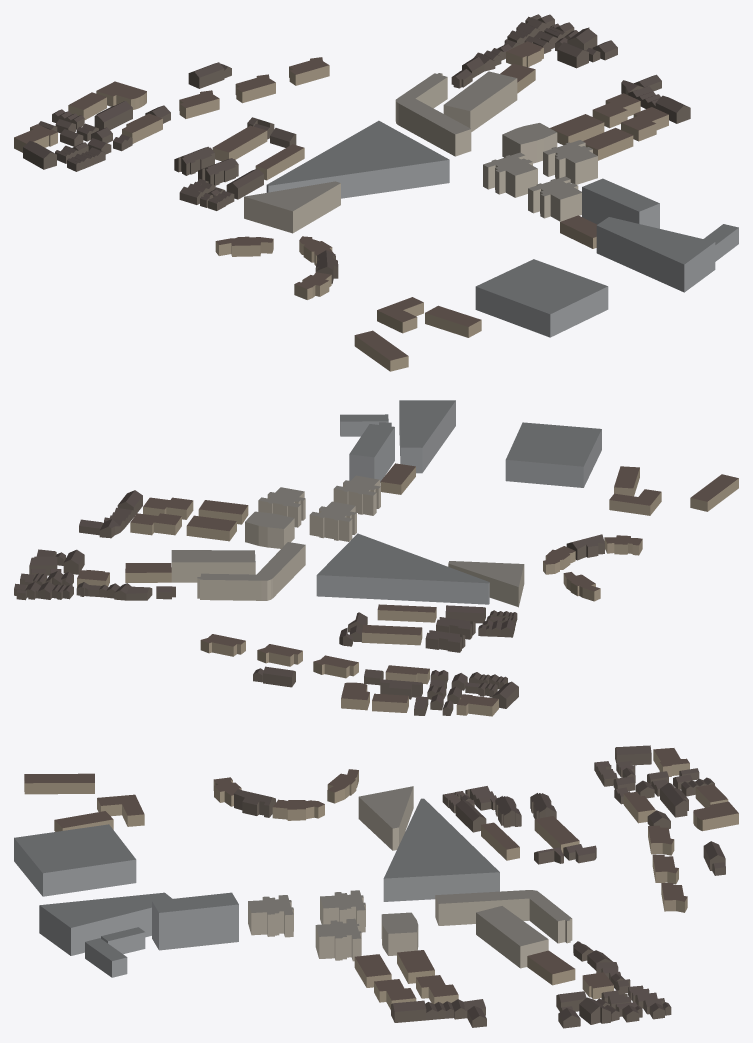
File: tile_1_3.glb
The picture shows the model from 3 angles, top to bottom: view 1: azimuth 30°, elevation 25°; view 2: azimuth 150°, elevation 25°; view 3: azimuth 270°, elevation 25°; orthographic projection. The views are drawn at different scales.
Visible parts, largest first — view 1: HP-w293023998, HP-w293024000, HP-w1234546195, HP-w783664773, HP-w293023999, HP-w783664771, HP-w1234546196, HP-w293412303, HP-w293412301, HP-w293412302, HP-w293412331, HP-w293513360 (+28 smaller); view 2: HP-w293023998, HP-w293024000, HP-w783664773, HP-w1234546195, HP-w783664771, HP-w1234546196, HP-w293023999, HP-w293412302, HP-w293412331, HP-w293412303, HP-w293412301, HP-w783664802 (+27 smaller); view 3: HP-w293023998, HP-w293024000, HP-w1234546195, HP-w1234546196, HP-w783664773, HP-w783664771, HP-w293023999, HP-w293412303, HP-w293412301, HP-w293513360, HP-w293412331, HP-w293412302 (+30 smaller).
Boxes of the visible parts, box(x1,y1,x2,y2) form: HP-w293023998: box(266, 120, 449, 198); HP-w293024000: box(475, 259, 608, 337); HP-w1234546195: box(596, 217, 715, 292); HP-w783664773: box(395, 73, 471, 156); HP-w293023999: box(244, 181, 340, 233); HP-w783664771: box(443, 71, 517, 131); HP-w1234546196: box(582, 178, 659, 228); HP-w293412303: box(528, 176, 581, 221); HP-w293412301: box(543, 140, 597, 184); HP-w293412302: box(483, 152, 537, 197); HP-w293412331: box(502, 123, 557, 163); HP-w293513360: box(354, 330, 408, 371); HP-w293023998: box(316, 533, 489, 604); HP-w293024000: box(505, 422, 601, 487); HP-w783664773: box(197, 542, 305, 600); HP-w1234546195: box(399, 400, 455, 473); HP-w783664771: box(171, 550, 255, 582); HP-w1234546196: box(349, 424, 394, 482); HP-w293023999: box(448, 561, 524, 607); HP-w293412302: box(309, 501, 356, 541); HP-w293412331: box(245, 511, 294, 548); HP-w293412303: box(333, 475, 380, 515); HP-w293412301: box(258, 487, 305, 527); HP-w783664802: box(362, 624, 422, 645); HP-w293023998: box(383, 798, 499, 901); HP-w293024000: box(14, 824, 136, 896); HP-w1234546195: box(39, 892, 172, 955); HP-w1234546196: box(152, 892, 238, 950); HP-w783664773: box(435, 890, 572, 943); HP-w783664771: box(476, 906, 548, 968); HP-w293023999: box(358, 786, 413, 850); HP-w293412303: box(248, 895, 293, 937); HP-w293412301: box(315, 918, 361, 961); HP-w293513360: box(24, 773, 94, 794); HP-w293412331: box(381, 912, 418, 955); HP-w293412302: box(320, 890, 365, 932).
Bounding box in the file's own units: 471 × 30.4 × 532.
